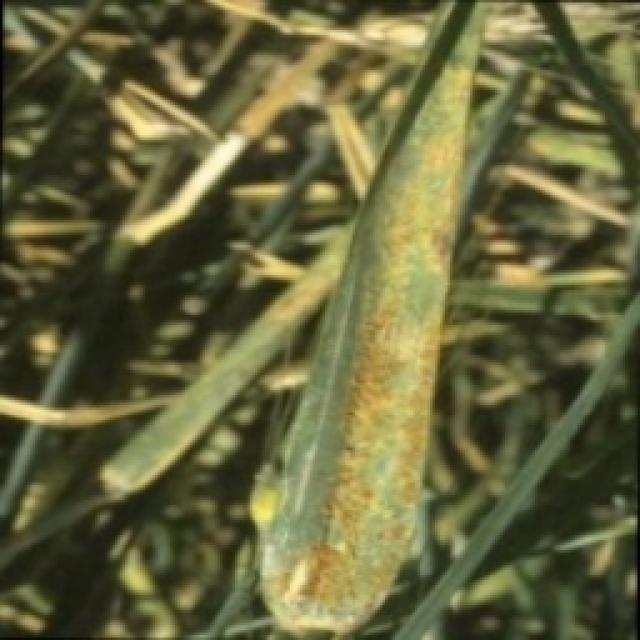Elderberry_rust: (305, 0, 446, 640)
